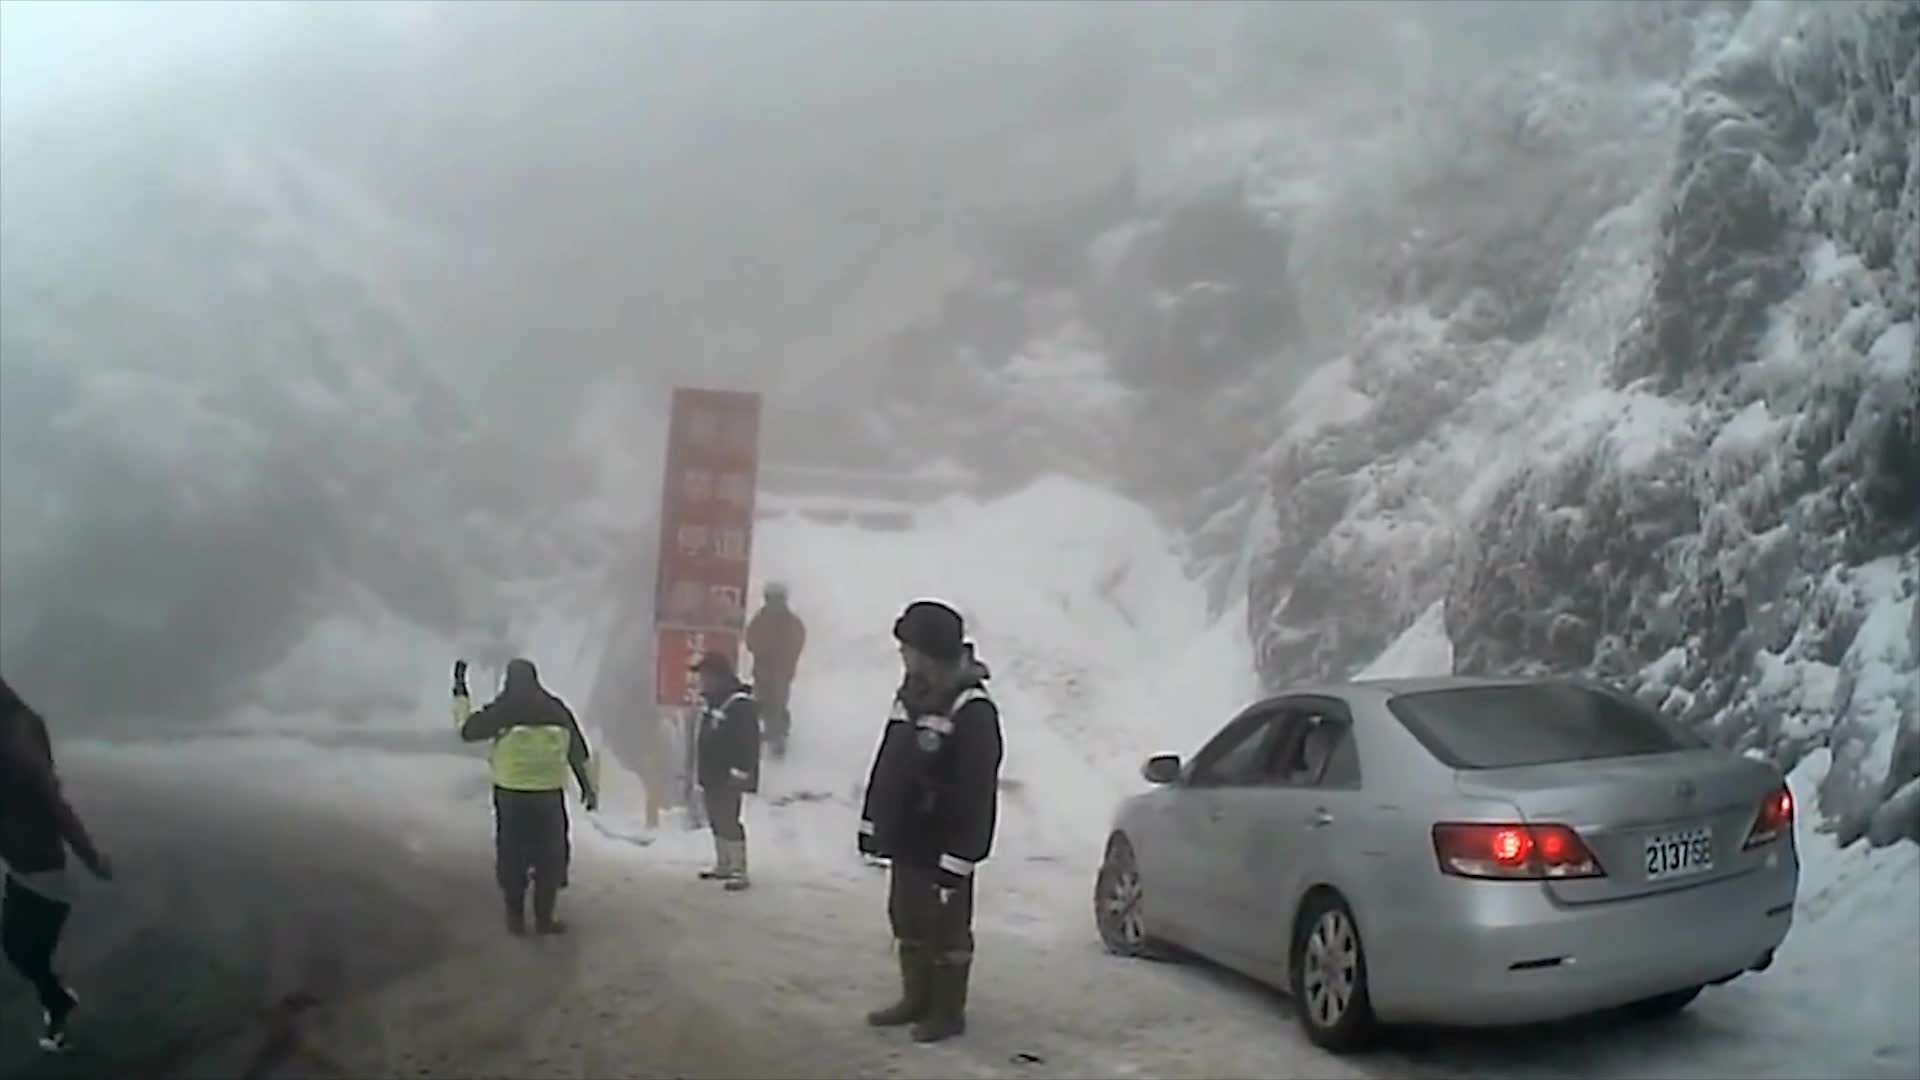pedestrian: (855, 603, 1002, 1045), (1, 665, 117, 1060), (436, 664, 595, 937), (684, 655, 766, 894), (743, 577, 814, 761)
vehicle: (1092, 667, 1800, 1047)
